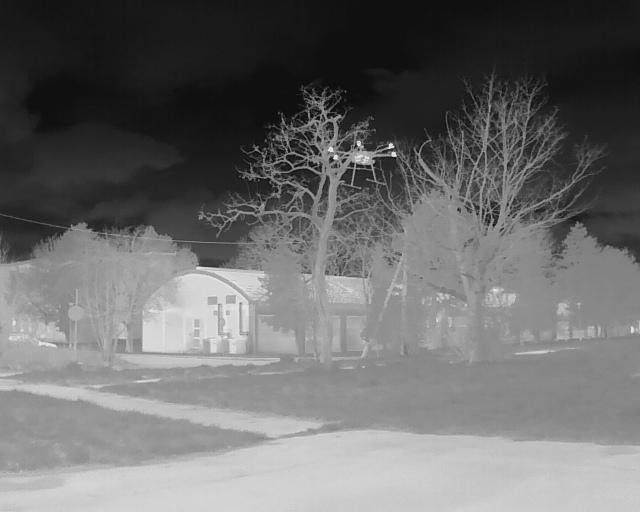drone: (322, 128, 411, 199)
